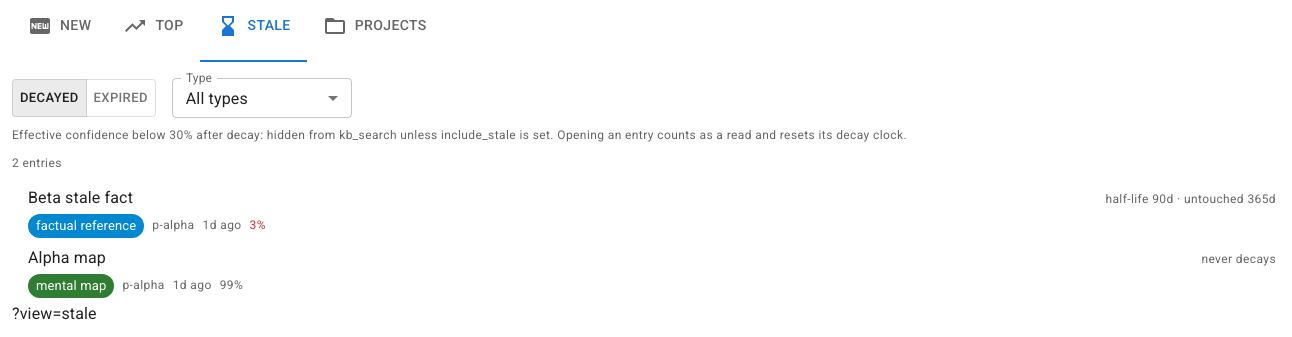
Test: BrowsePanel › (h) Stale shows decay meta, never-decays and the Expired view
The image size is (1292, 337).
Expected: the text "Opening an entry counts as a read and resets its decay clock." is shown, x1=12 y1=128 x2=907 y2=142
Expected: the text "3%" is shown, x1=250 y1=216 x2=266 y2=236
Click the button "Expired": [121, 98] box x1=86 y1=79 x2=156 y2=117
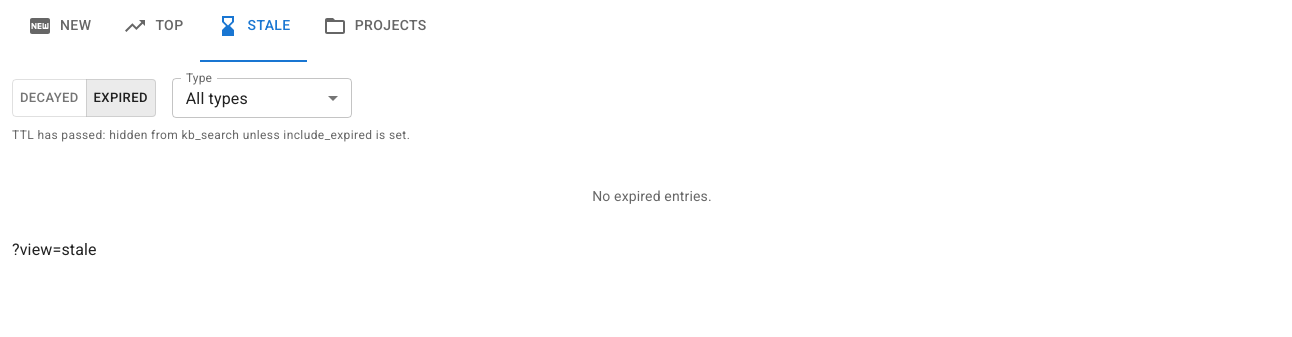
Result: the text "No expired entries." is shown at x1=592 y1=188 x2=712 y2=204
